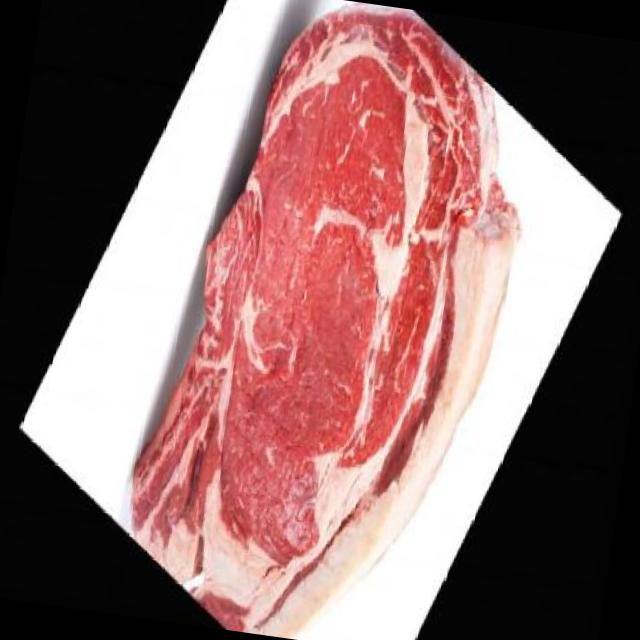beef: (58, 0, 605, 640)
